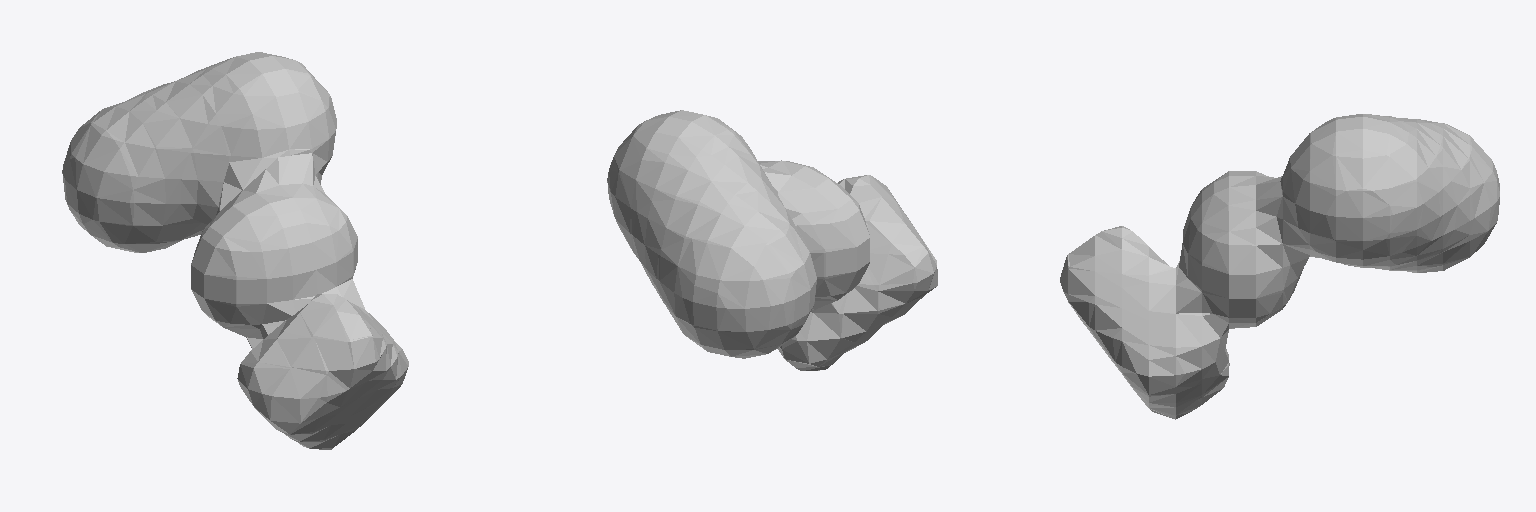
File: meta.obj
3 views of the same model, side by side, from view 1: azimuth 30°, elevation 25°; view 2: azimuth 150°, elevation 25°; view 3: azimuth 270°, elevation 25° (orthographic).
Visible parts, largest first — view 1: Mball; view 2: Mball; view 3: Mball.
Part boxes in pixels (x1,y1,x2,y2): Mball: (62,52,408,449); Mball: (607,110,937,370); Mball: (1060,114,1499,419).
Bounding box in the file's own units: 3.83 × 5.15 × 6.59.